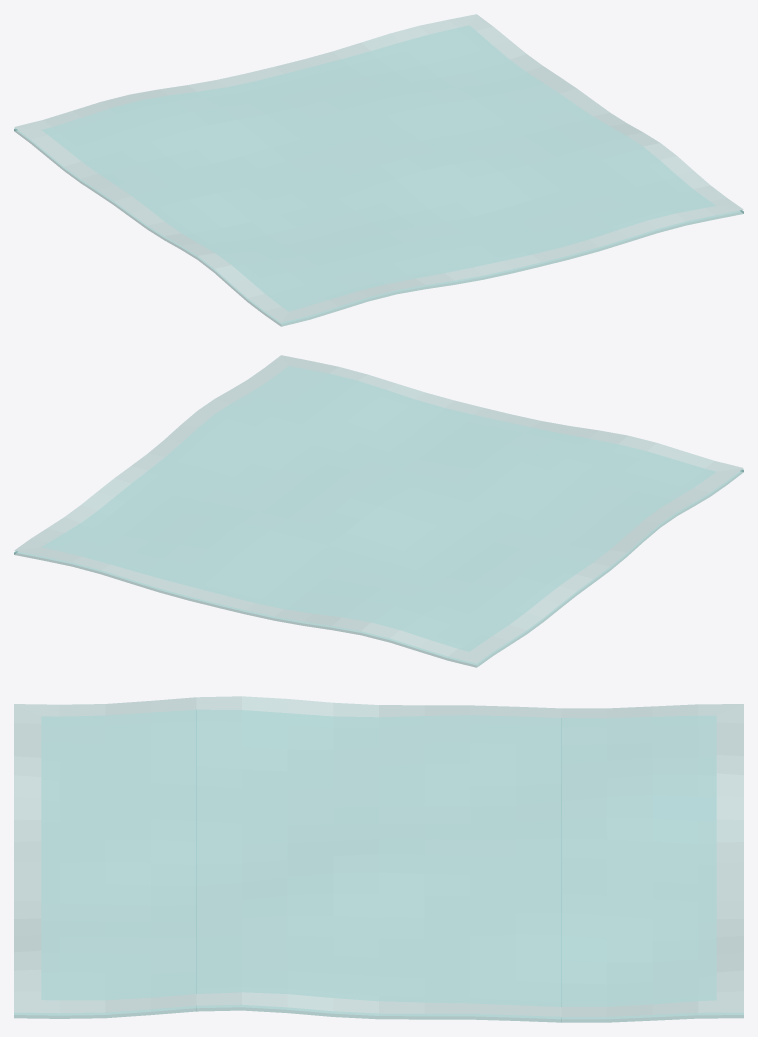
Rendered from env_water_pond.glb.
The picture shows the model from 3 angles, top to bottom: view 1: azimuth 30°, elevation 25°; view 2: azimuth 150°, elevation 25°; view 3: azimuth 270°, elevation 25°; orthographic projection. The views are drawn at different scales.
Parts seen in each view (by area): view 1: env_water_pond; view 2: env_water_pond; view 3: env_water_pond.
Boxes of the visible parts, <box> form: env_water_pond: <box>14,14,743,326</box>; env_water_pond: <box>14,355,743,667</box>; env_water_pond: <box>14,696,743,1022</box>.
Bounding box in the file's own units: 4 × 0.114 × 4.
